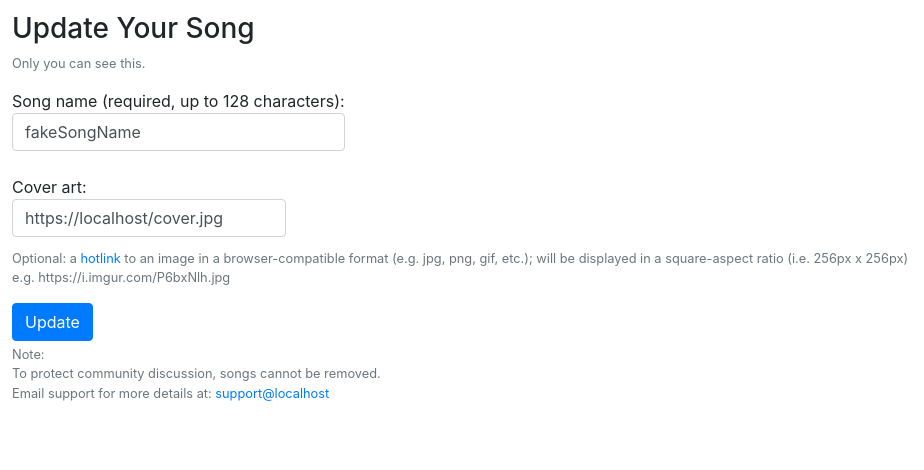
allows specifying no album art
The width and height of the screenshot is (924, 470).
Step 1. Clear the field labelled "Cover art:" → {"x": 149, "y": 218}, box [12, 199, 286, 237]
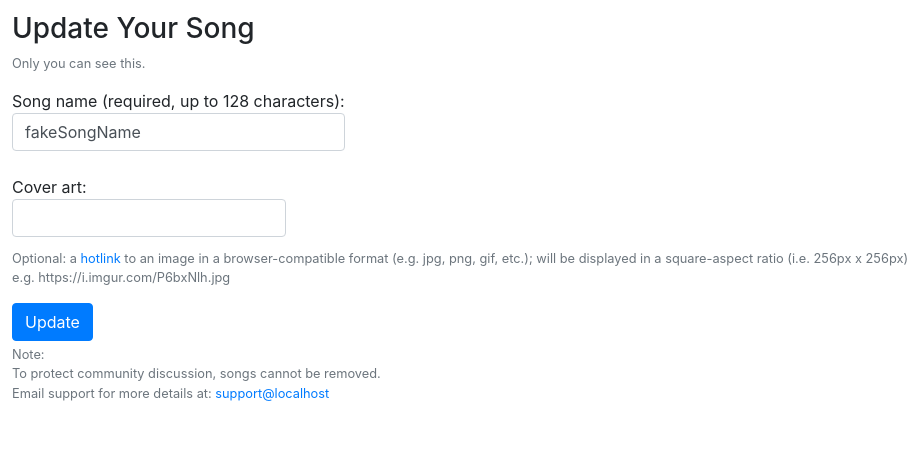
Step 2. Click the button "Update" → {"x": 52, "y": 322}, box [12, 303, 93, 341]
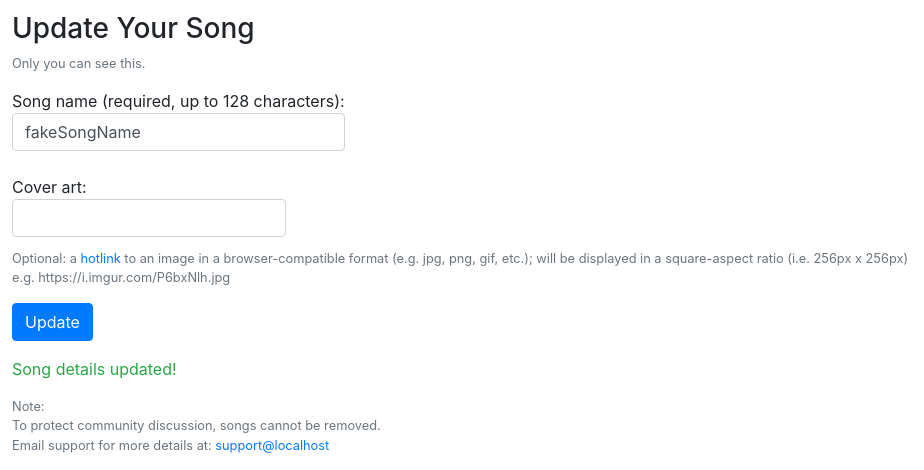
Expected: the text "Song details updated!" is shown, [12, 359, 177, 379]
